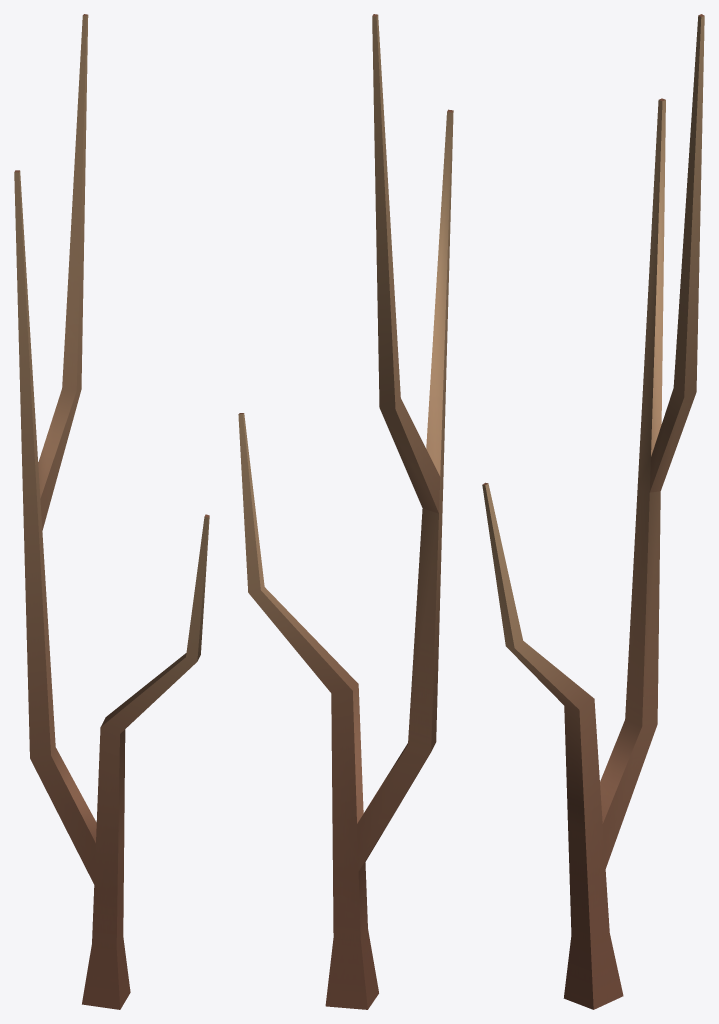
The model's file is Cavern_TreeDead_Sml-03.fbx.
3 views of the same model, side by side, from view 1: azimuth 30°, elevation 25°; view 2: azimuth 210°, elevation 25°; view 3: azimuth 270°, elevation 25° (orthographic). The views are drawn at different scales.
Parts seen in each view (by area): view 1: Cavern_TreeDead_Sml-03; view 2: Cavern_TreeDead_Sml-03; view 3: Cavern_TreeDead_Sml-03.
Boxes of the visible parts, x1,y1,x2,y2 form: Cavern_TreeDead_Sml-03: [14, 14, 209, 1009]; Cavern_TreeDead_Sml-03: [238, 14, 453, 1009]; Cavern_TreeDead_Sml-03: [482, 14, 704, 1009].
Size of the model in its own units: 14.31 by 110 by 22.15.
1 material, 1 textured.
